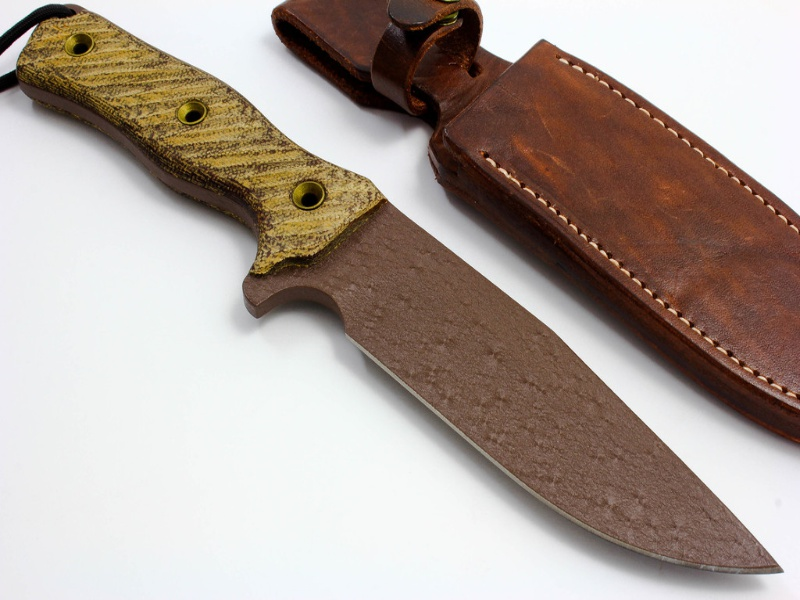knife: (22, 1, 788, 581)
